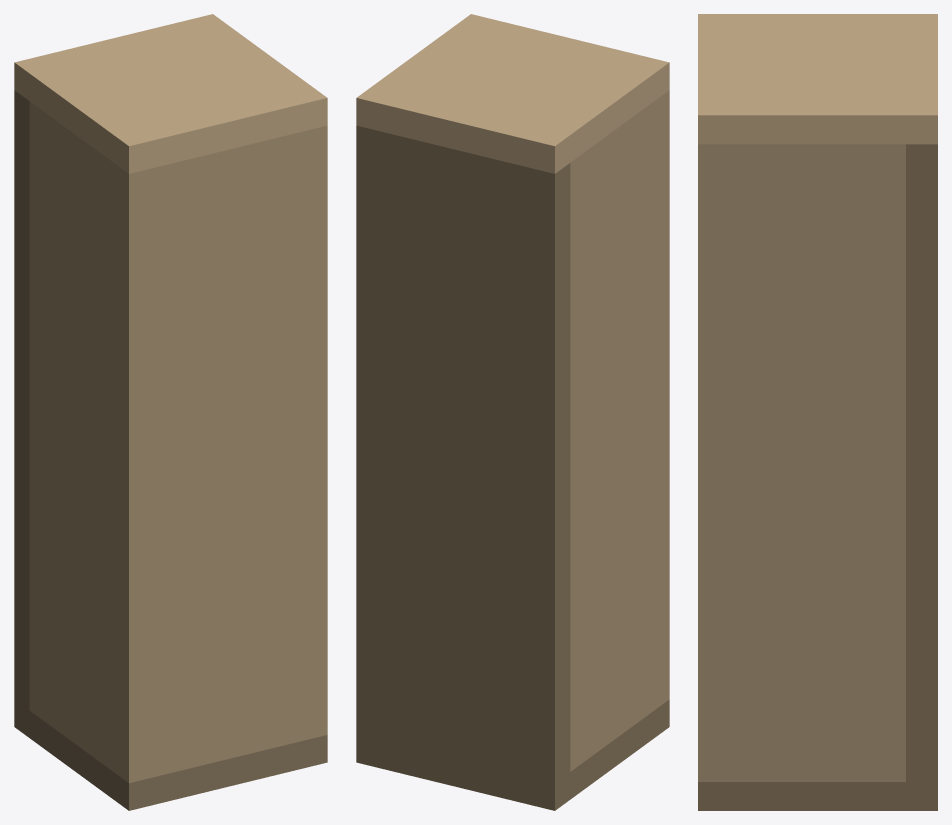
Rendered from estanteria_empotrada_avellano_01.glb.
3 views of the same model, side by side, from view 1: azimuth 30°, elevation 25°; view 2: azimuth 150°, elevation 25°; view 3: azimuth 270°, elevation 25° (orthographic). The views are drawn at different scales.
Parts seen in each view (by area): view 1: estanteria_empotrada_avellano; view 2: estanteria_empotrada_avellano; view 3: estanteria_empotrada_avellano.
Boxes of the visible parts, x1,y1,x2,y2 form: estanteria_empotrada_avellano: [14, 14, 327, 810]; estanteria_empotrada_avellano: [356, 14, 669, 810]; estanteria_empotrada_avellano: [698, 14, 937, 810].
Bounding box in the file's own units: 1 × 3.2 × 1.
